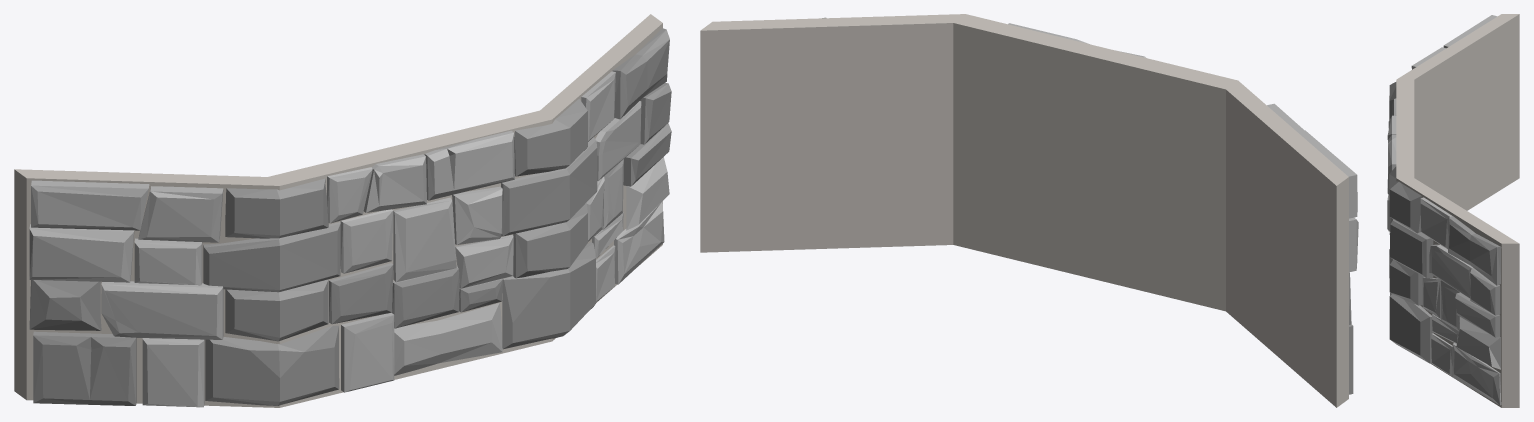
Rendered from _FOUNDATION_01_1.fbx.
3 views of the same model, side by side, from view 1: azimuth 30°, elevation 25°; view 2: azimuth 150°, elevation 25°; view 3: azimuth 270°, elevation 25° (orthographic). The views are drawn at different scales.
Parts seen in each view (by area): view 1: FOUNDATION_01_1; view 2: FOUNDATION_01_1; view 3: FOUNDATION_01_1.
Boxes of the visible parts, bbox=[...] form: FOUNDATION_01_1: bbox=[14, 14, 671, 407]; FOUNDATION_01_1: bbox=[700, 14, 1358, 407]; FOUNDATION_01_1: bbox=[1387, 14, 1519, 407].
Size of the model in its own units: 302 by 100 by 73.1.
